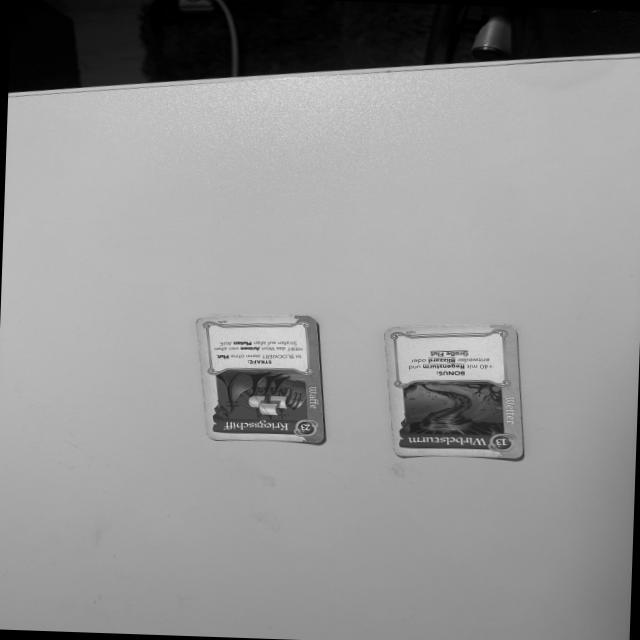Warship: (194, 313, 322, 444)
Whirlwind: (383, 317, 528, 458)
